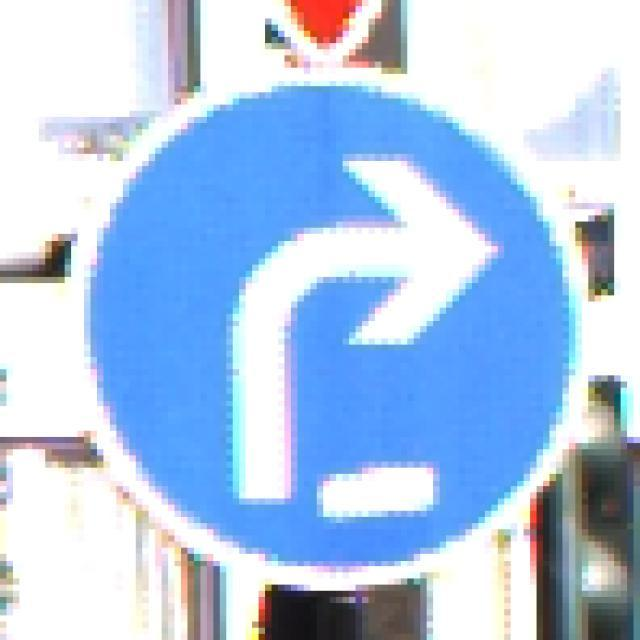compulsary turn right ahead: (78, 59, 580, 585)
